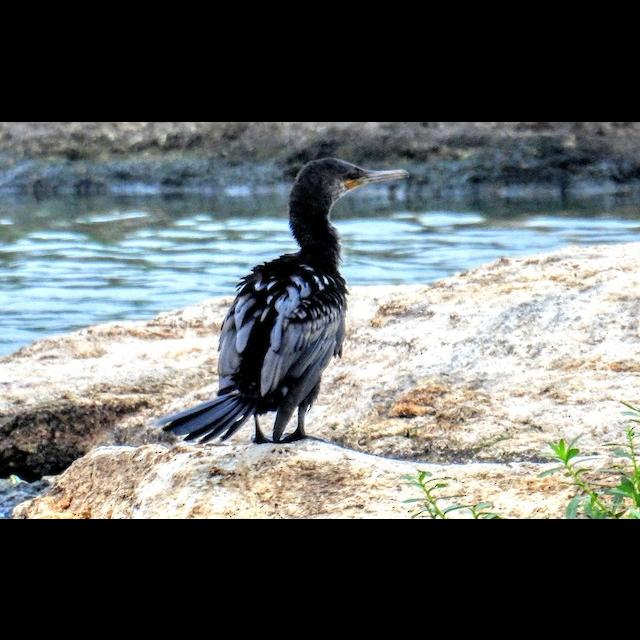cormorant: (171, 155, 411, 441)
